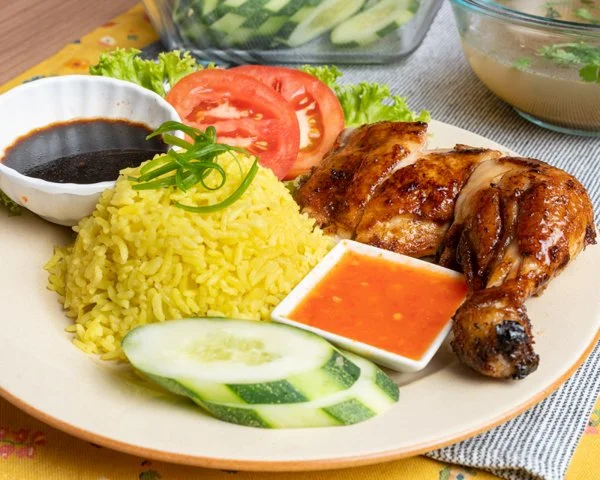buah_sayur_lainnya: (159, 344, 322, 391)
buah_sayur_vitA: (183, 78, 322, 132), (341, 258, 420, 335)
daging: (363, 166, 530, 222)
kacang_legume: (47, 134, 121, 172)
makanan_berpati: (109, 223, 278, 292)
